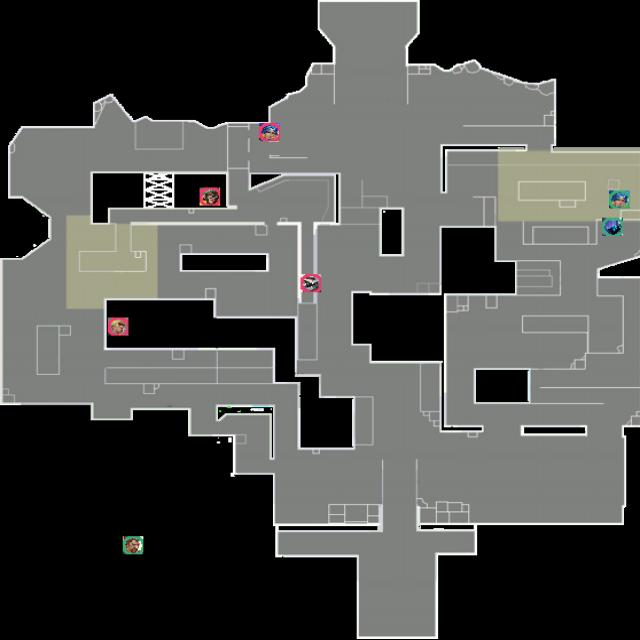atk_cypher: (301, 274, 321, 292)
atk_gekko: (108, 318, 128, 336)
atk_killjoy: (200, 188, 220, 205)
atk_neon: (259, 123, 280, 141)
def_breach: (123, 536, 143, 554)
def_neon: (609, 190, 630, 208)
def_omen: (602, 218, 623, 236)
